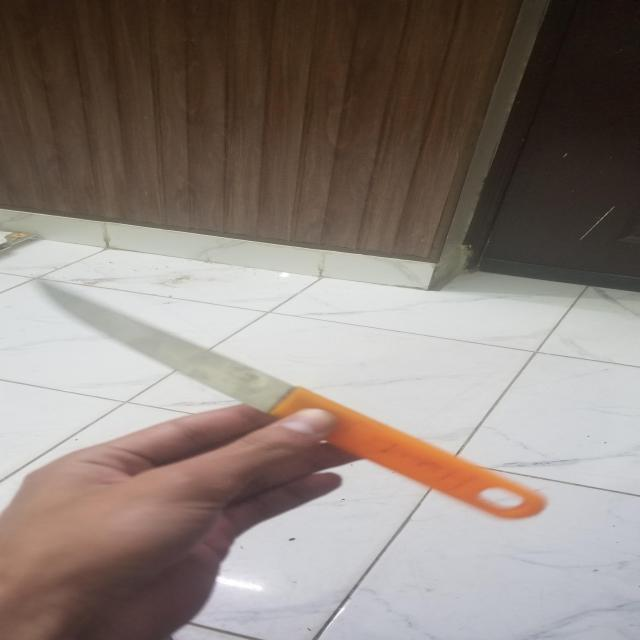Knife: (36, 275, 550, 521)
Person: (0, 398, 373, 640)
